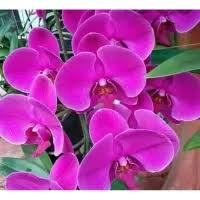orchid: (7, 20, 183, 180)
